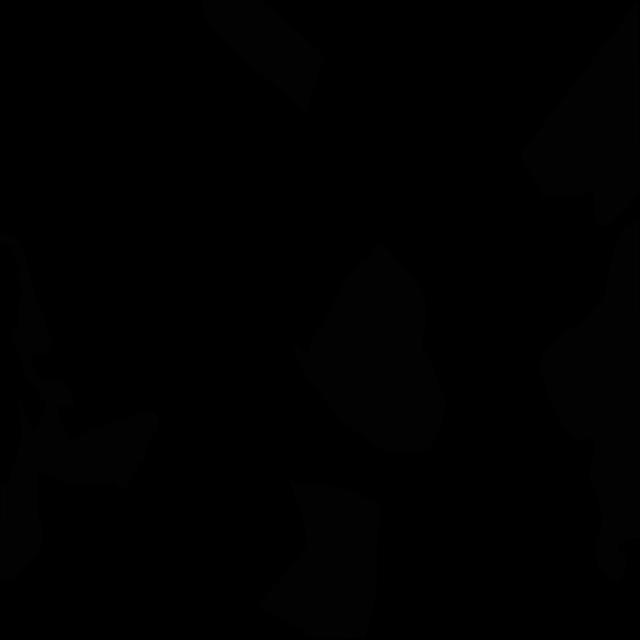cardboard: (0, 233, 159, 580), (538, 219, 640, 583), (294, 243, 446, 454), (520, 0, 640, 226), (256, 479, 382, 639), (200, 0, 325, 112)
